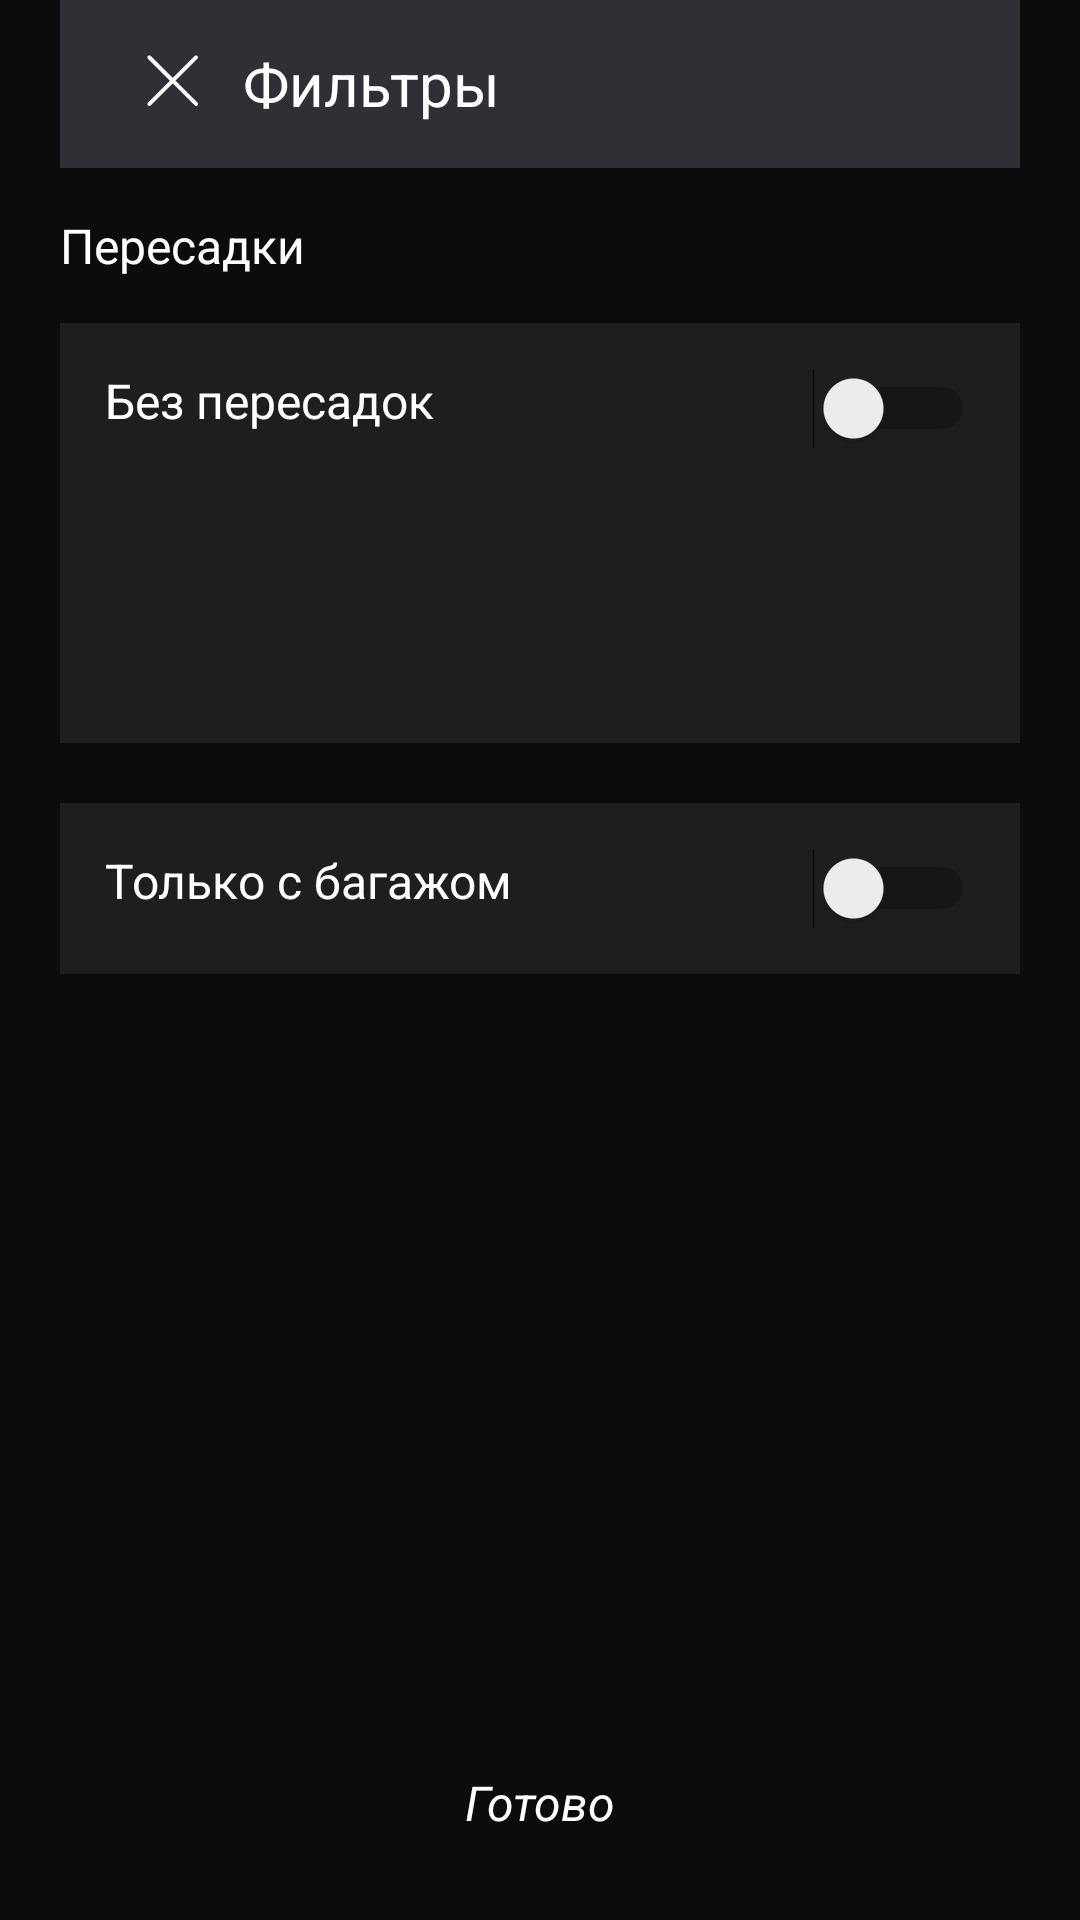

Icon bounding boxes for this 1080×1920 phone screenshot, format region(x1, y1, x2, y2):
cancel: region(147, 55, 198, 106)
